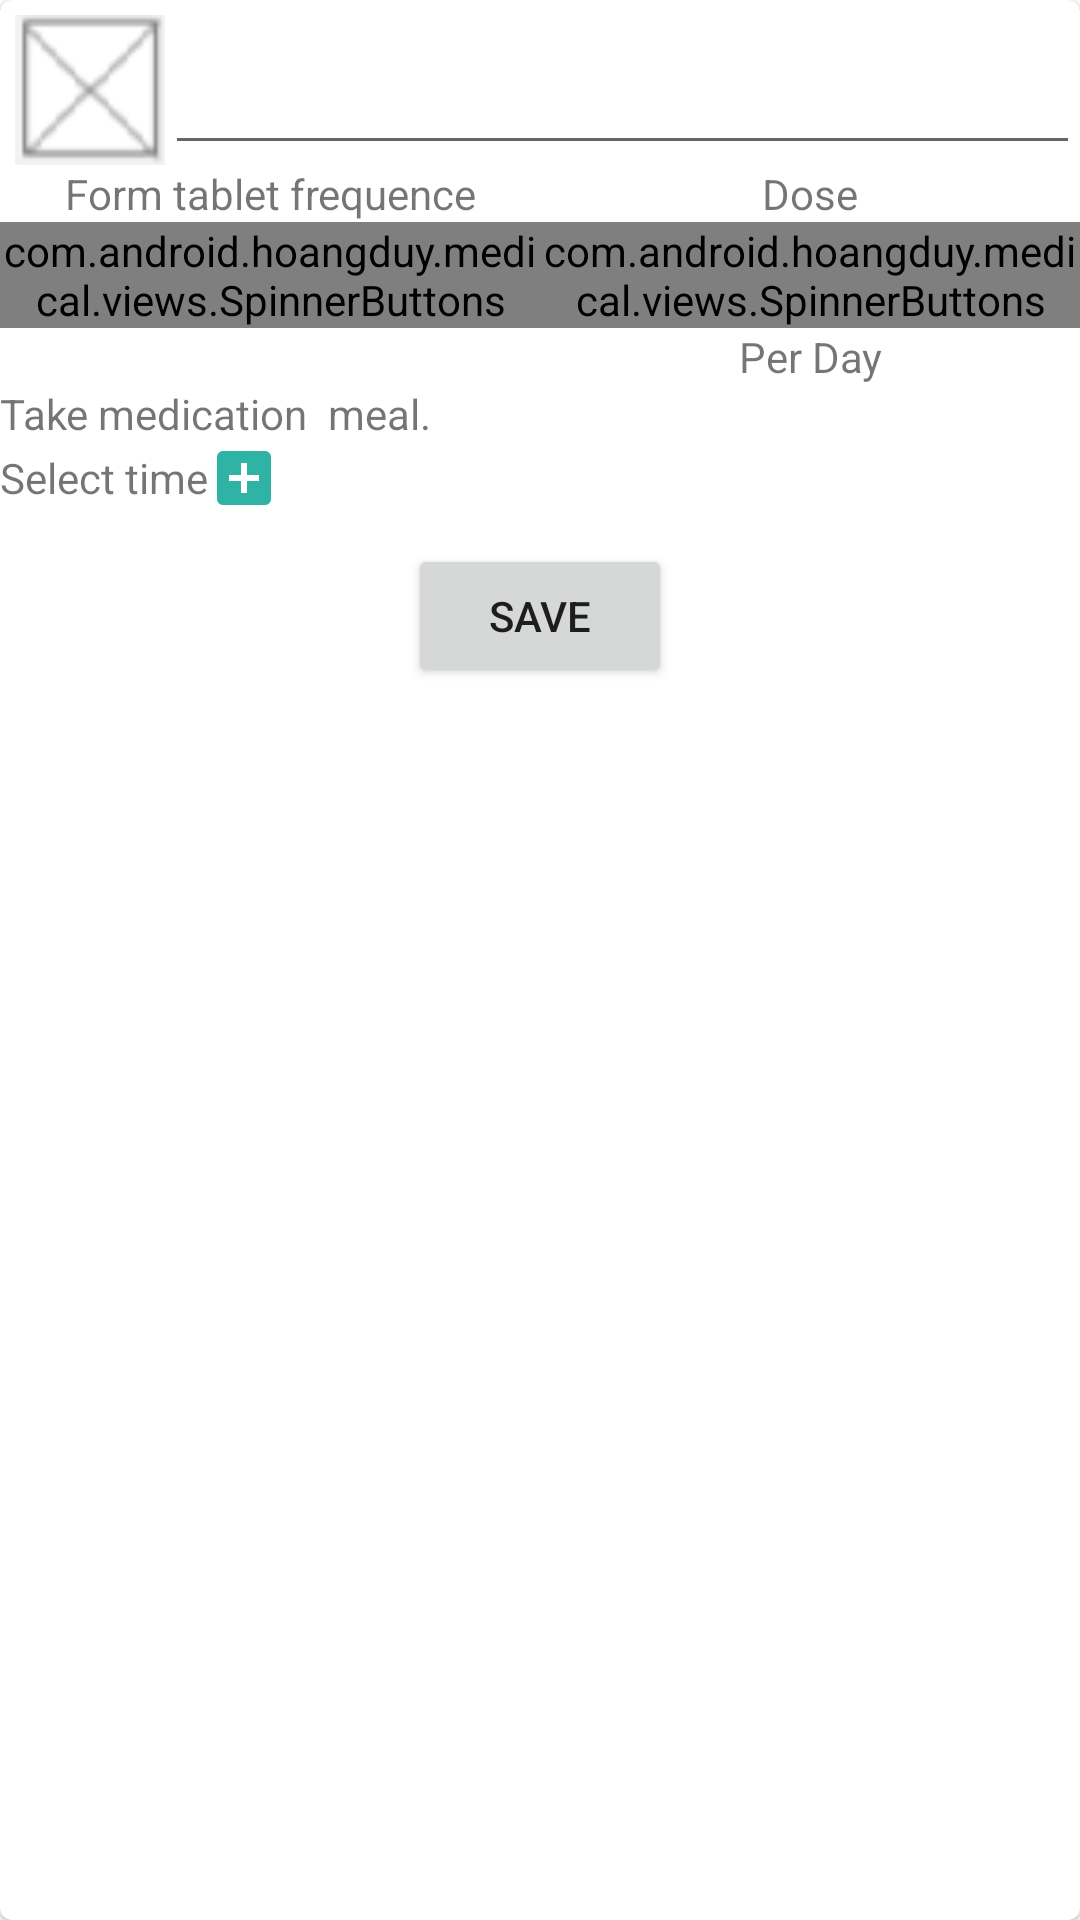

Icon click points for this 1080 x 1920 phone screenshot, format [x,y]:
add box: [244,478]
